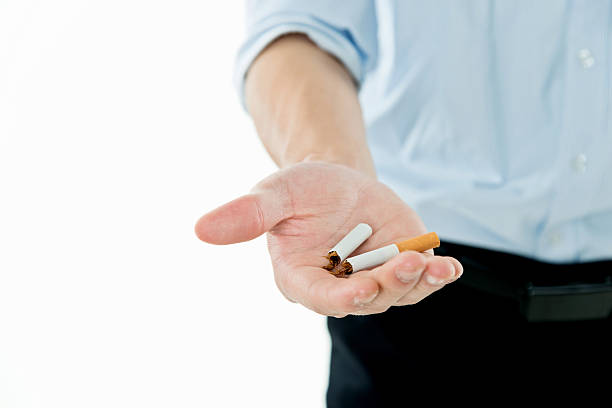cigarette: (340, 230, 441, 276), (325, 222, 374, 267)
